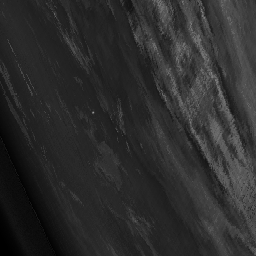Target: (89, 109, 96, 116)
